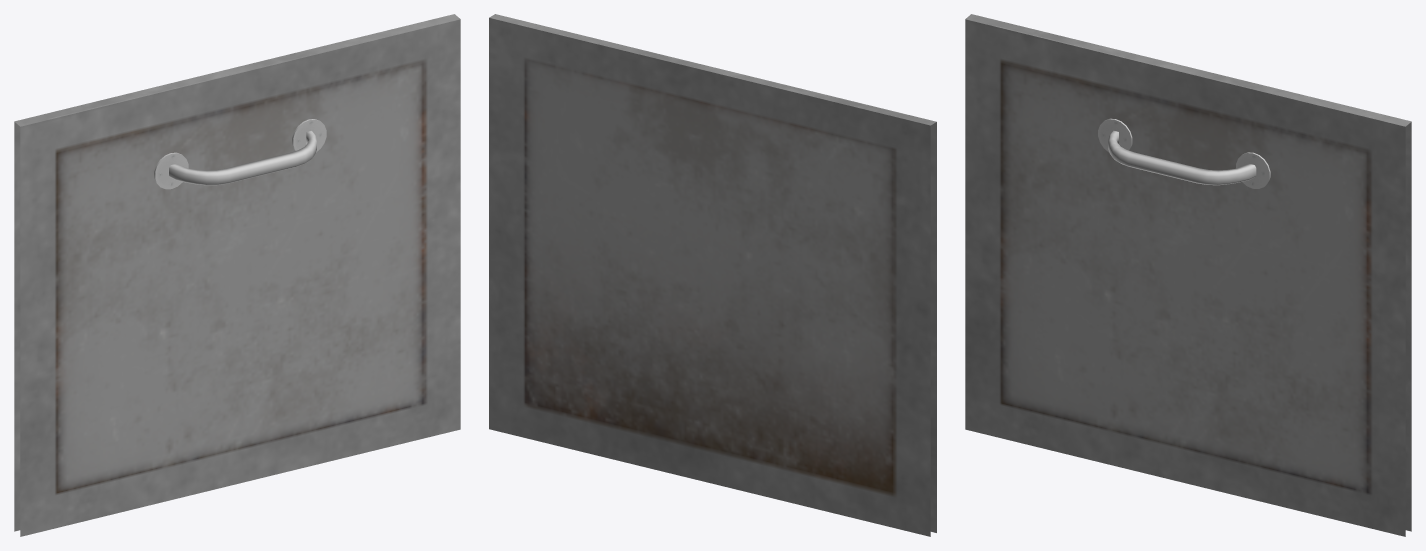
Rendered from SM_Celldoor_03_CD3_Feed_Door.fbx.
The picture shows the model from 3 angles, left to right: view 1: azimuth 30°, elevation 25°; view 2: azimuth 150°, elevation 25°; view 3: azimuth 330°, elevation 25°; orthographic projection.
Parts seen in each view (by area): view 1: SM_Celldoor_03_CD3_Feed_Door; view 2: SM_Celldoor_03_CD3_Feed_Door; view 3: SM_Celldoor_03_CD3_Feed_Door.
Part boxes in pixels (left/top/right/bottom): SM_Celldoor_03_CD3_Feed_Door: left=14, top=14, right=460, bottom=536; SM_Celldoor_03_CD3_Feed_Door: left=489, top=14, right=936, bottom=536; SM_Celldoor_03_CD3_Feed_Door: left=965, top=14, right=1411, bottom=536.
Bounding box in the file's own units: 74.18 × 8.49 × 66.14.
1 material, 1 textured.
